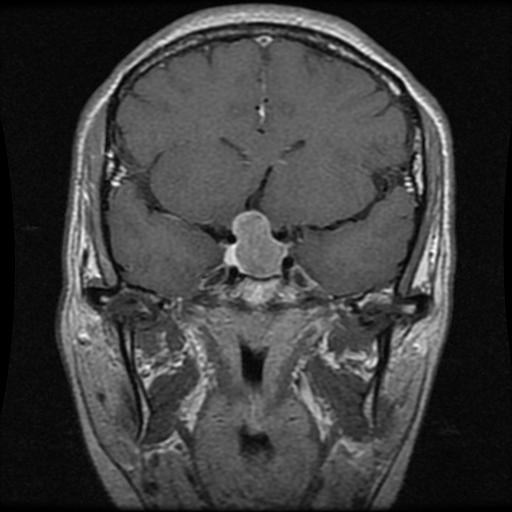Pituirity_tumour: (224, 209, 289, 276)
